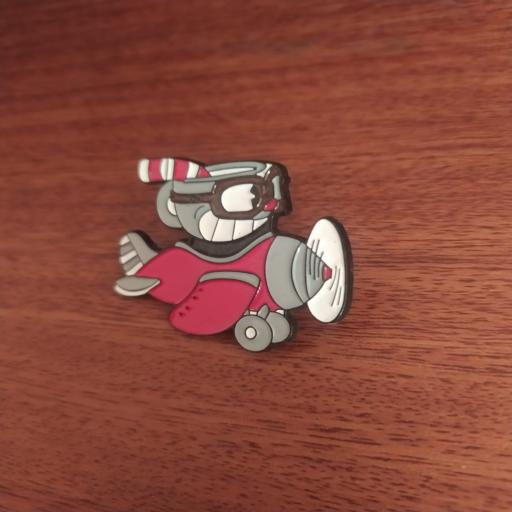Pin: (101, 147, 362, 365)
